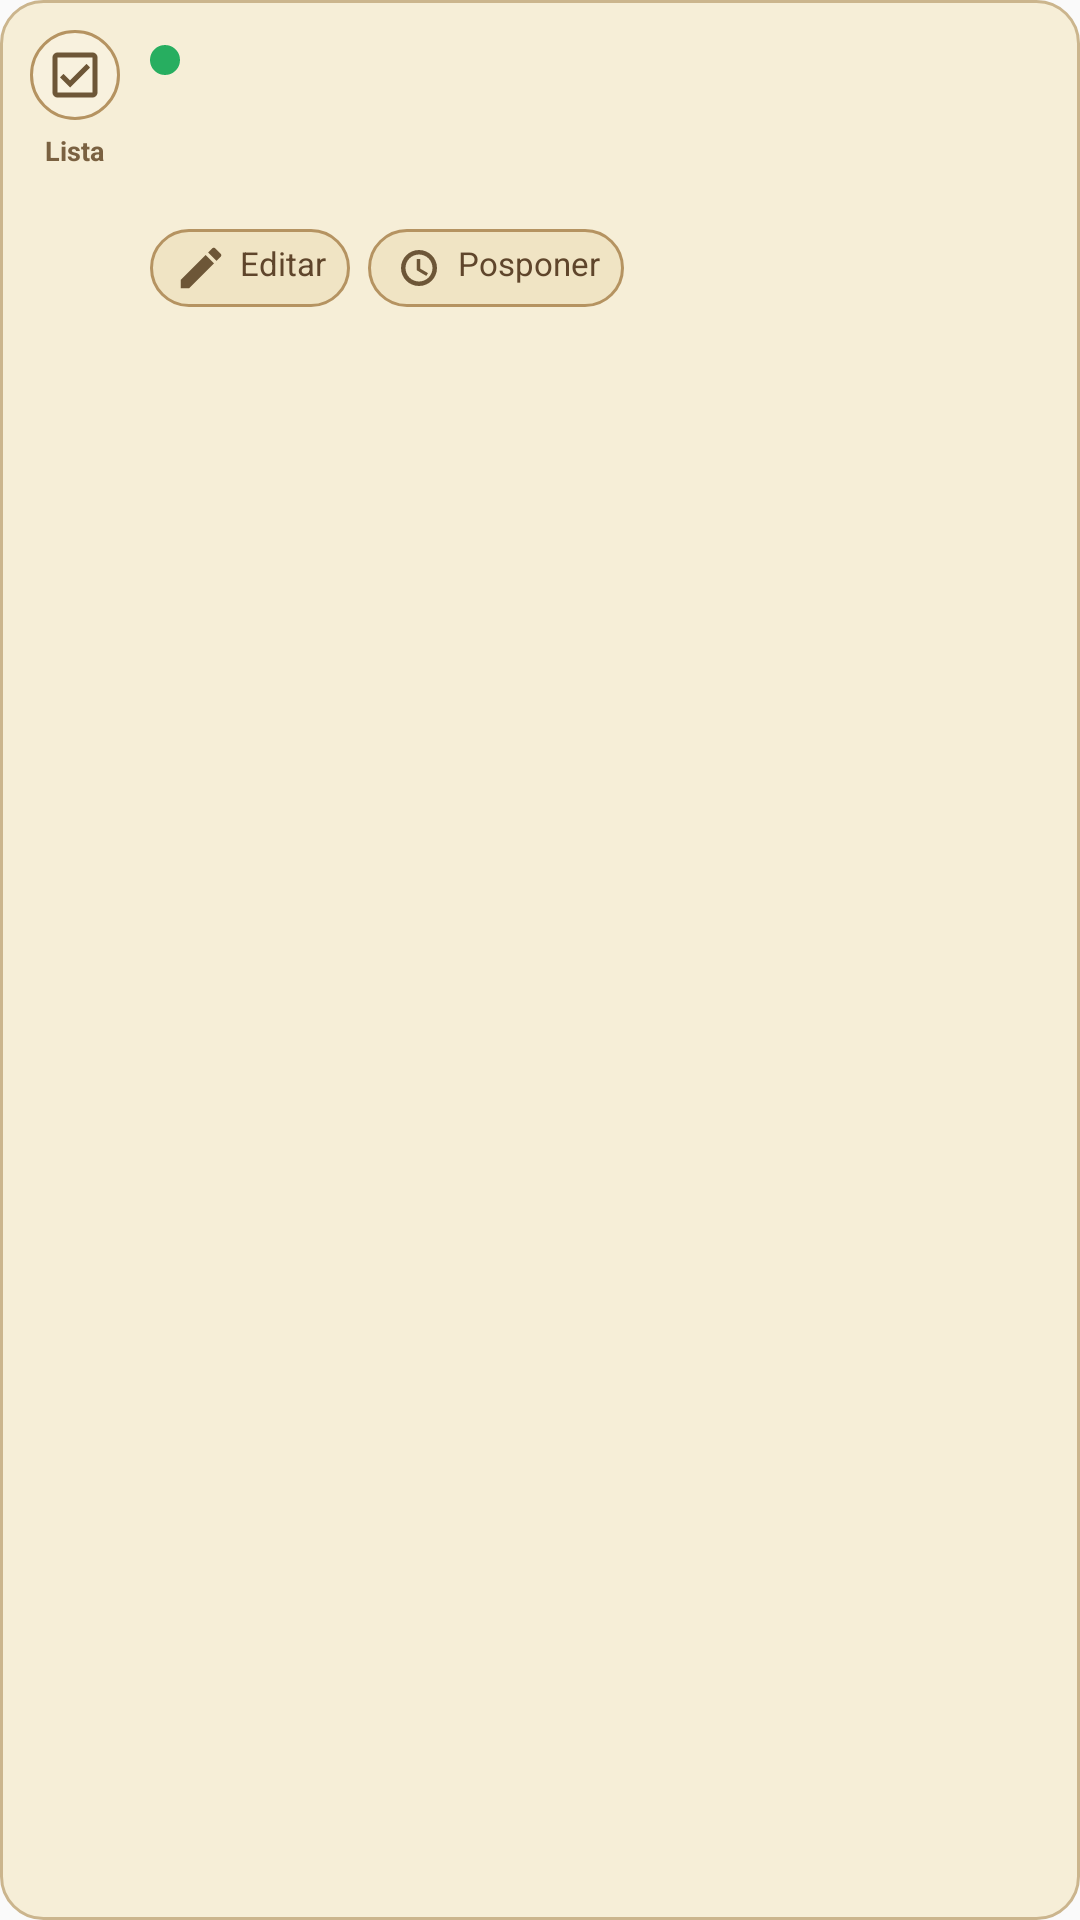

Screen size 1080px x 1920px. Icon name, then its box in pixels as (x1, y1, x2, y2):
Marcar tarea completada: (30, 30, 120, 120)
